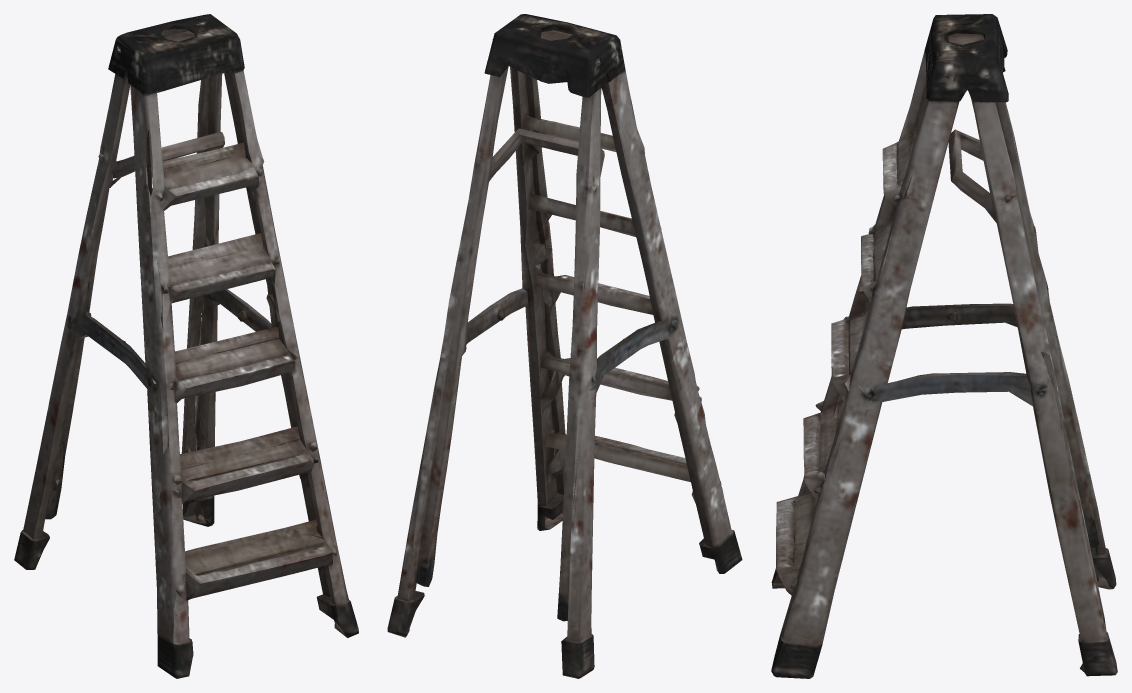
Rendered from p7-step-ladder.glb.
The picture shows the model from 3 angles, left to right: view 1: azimuth 30°, elevation 25°; view 2: azimuth 150°, elevation 25°; view 3: azimuth 270°, elevation 25°; orthographic projection. The views are drawn at different scales.
Parts seen in each view (by area): view 1: p7-step-ladder; view 2: p7-step-ladder; view 3: p7-step-ladder.
Boxes of the visible parts, x1,y1,x2,y2 form: p7-step-ladder: [14, 14, 358, 678]; p7-step-ladder: [387, 14, 742, 678]; p7-step-ladder: [771, 14, 1117, 678].
Bounding box in the file's own units: 0.6368 × 1.8 × 0.95.
1 material, 1 textured.
